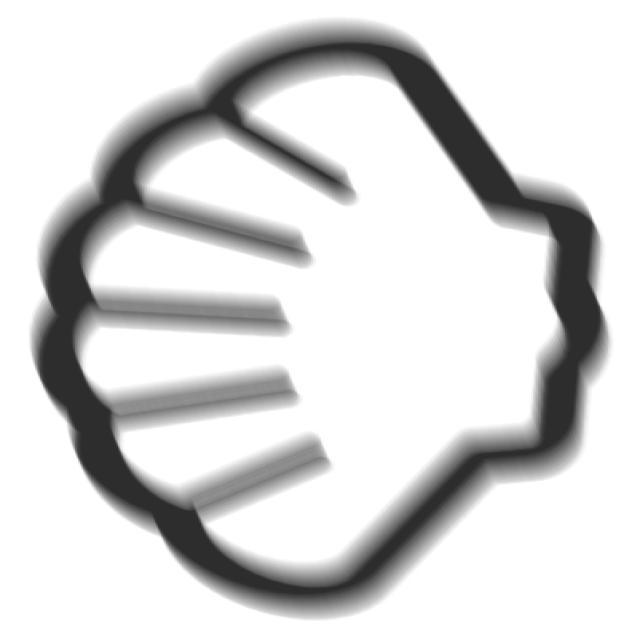shell: (14, 10, 627, 637)
